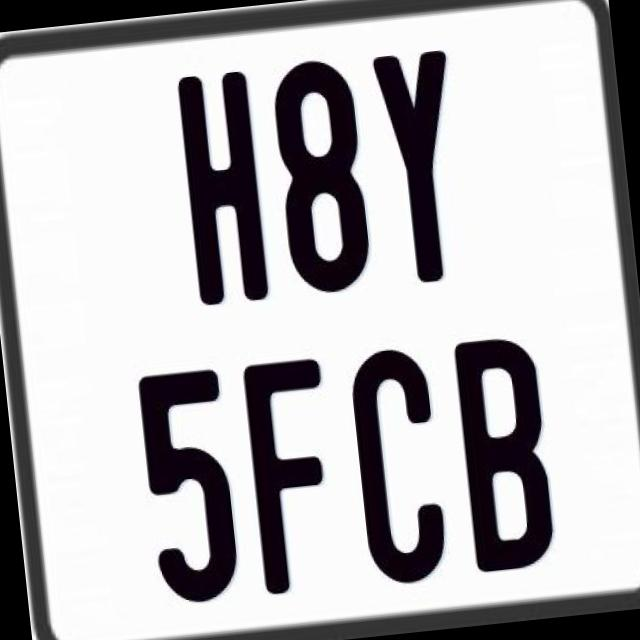5: (137, 368, 244, 612)
8: (268, 55, 375, 302)
B: (452, 329, 562, 577)
C: (348, 341, 456, 585)
F: (238, 352, 341, 598)
H: (176, 69, 272, 310)
Y: (371, 48, 475, 286)
